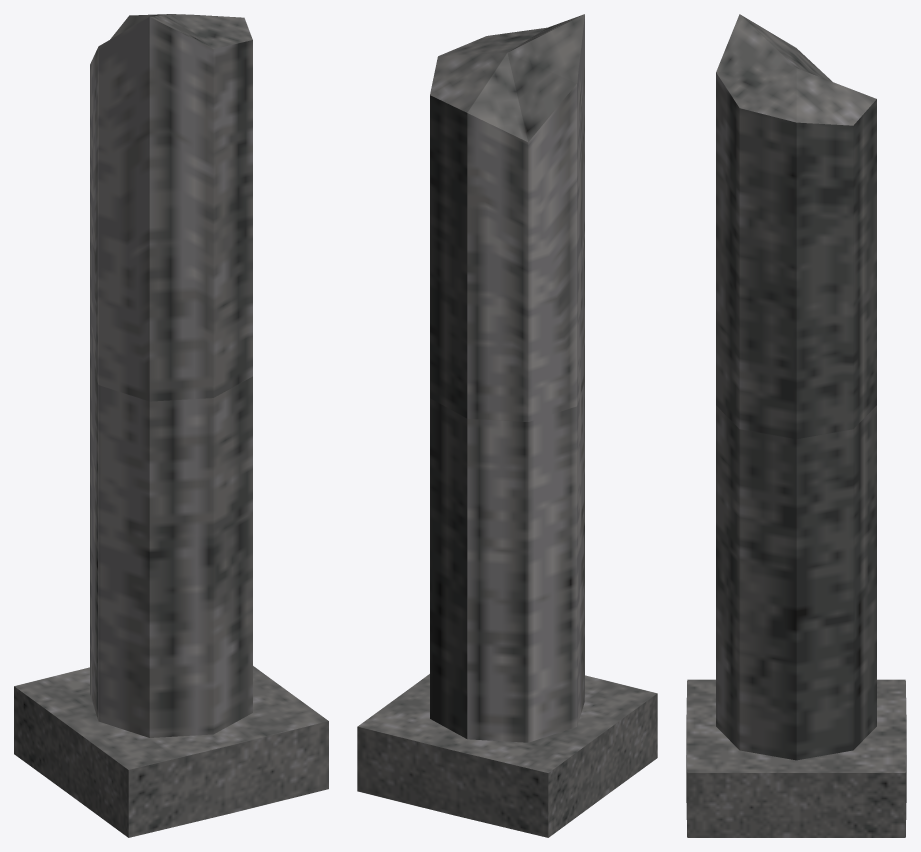
The model's file is SM_Dungeon_Pillar_Ornate_Broken.fbx.
3 renders of one model, left to right at view 1: azimuth 30°, elevation 25°; view 2: azimuth 150°, elevation 25°; view 3: azimuth 270°, elevation 25°, orthographic. The views are drawn at different scales.
Parts seen in each view (by area): view 1: SM_Dungeon_Pillar_Ornate; view 2: SM_Dungeon_Pillar_Ornate; view 3: SM_Dungeon_Pillar_Ornate.
Part boxes in pixels (x1,y1,x2,y2): SM_Dungeon_Pillar_Ornate: (14, 14, 328, 837); SM_Dungeon_Pillar_Ornate: (357, 14, 657, 837); SM_Dungeon_Pillar_Ornate: (686, 14, 906, 837).
Size of the model in its own units: 68.64 by 258 by 68.52.
